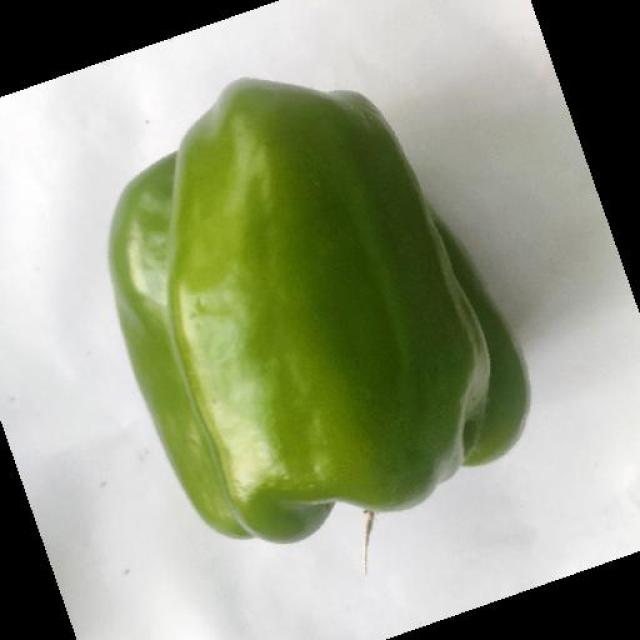Fresh_Capsicum: (97, 95, 516, 555)
